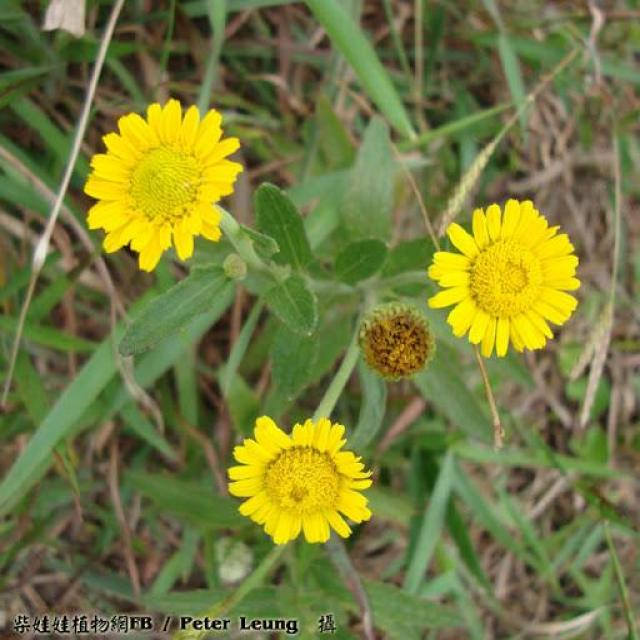organic waste: (80, 96, 238, 272), (423, 195, 588, 358), (222, 404, 379, 551)
